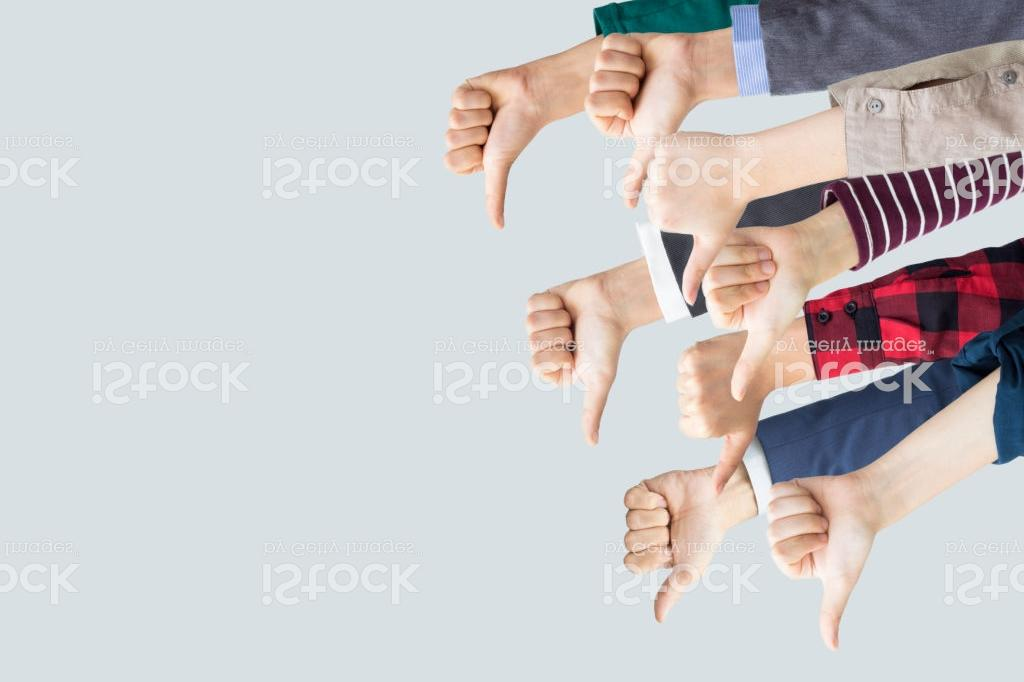thumbsdown: (582, 29, 679, 214), (763, 475, 863, 652), (521, 279, 621, 452), (701, 225, 792, 402), (643, 130, 729, 308), (443, 65, 531, 231), (620, 467, 703, 625), (676, 333, 746, 497)
